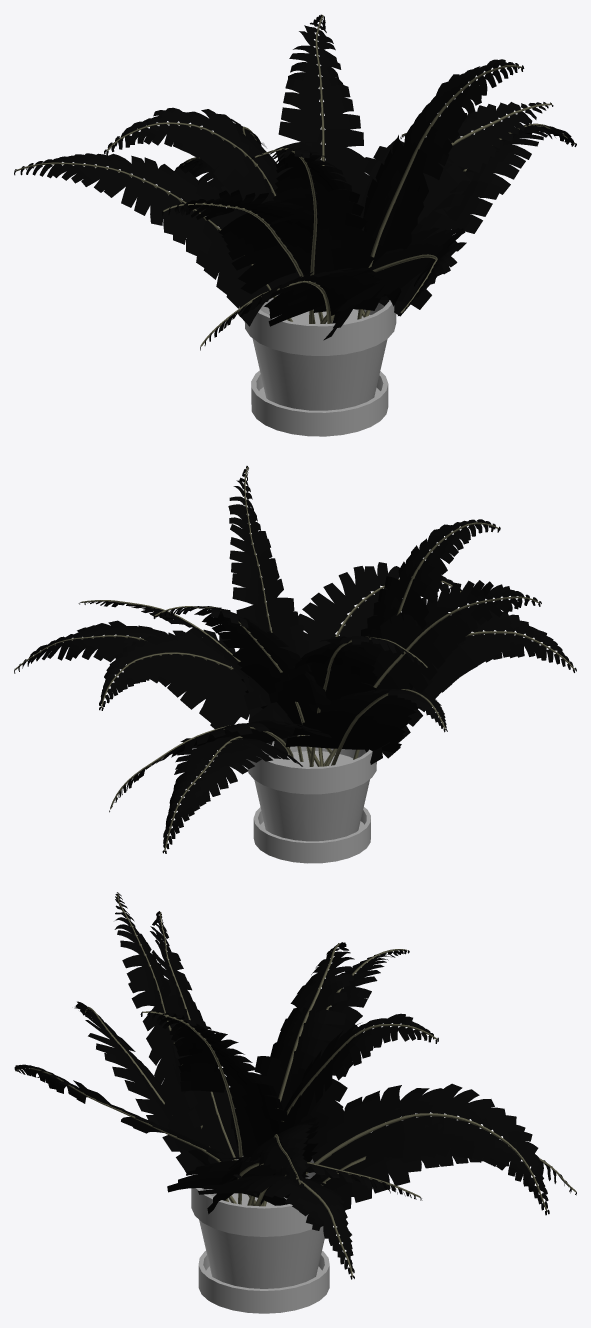
File: PLANT2.fbx
3 views of the same model, one above another, from view 1: azimuth 30°, elevation 25°; view 2: azimuth 150°, elevation 25°; view 3: azimuth 270°, elevation 25° (orthographic). The views are drawn at different scales.
Parts seen in each view (by area): view 1: pCylinder4, fernsTextured6Leaf, fernsTextured3Leaf, fernsTextured1Leaf, fernsTextured8Leaf, fernsTextured9Leaf, fernsTextured12Leaf, fernsTextured7Leaf, fernsTextured11Leaf, pCylinder3, fernsTextured5Leaf, fernsTextured4Leaf (+5 smaller); view 2: fernsTextured10Leaf, pCylinder4, fernsTextured9Leaf, fernsTextured3Leaf, fernsTextured6Leaf, fernsTextured8Leaf, fernsTextured1Leaf, fernsTextured12Leaf, fernsTextured5Leaf, fernsTextured11Leaf, fernsTextured4Leaf, pCylinder3 (+4 smaller); view 3: fernsTextured2Leaf, pCylinder4, fernsTextured3Leaf, fernsTextured12Leaf, fernsTextured8Leaf, fernsTextured10Leaf, fernsTextured1Leaf, fernsTextured9Leaf, fernsTextured4Leaf, pCylinder3, fernsTextured5Leaf, fernsTextured6Leaf (+7 smaller).
Part boxes in pixels (x1,y1,x2,y2): pCylinder4: (244,295,396,410); fernsTextured6Leaf: (14,153,269,326); fernsTextured3Leaf: (363,59,524,306); fernsTextured1Leaf: (268,14,370,294); fernsTextured8Leaf: (251,147,380,312); fernsTextured9Leaf: (162,189,318,294); fernsTextured12Leaf: (104,107,304,284); fernsTextured7Leaf: (357,102,553,316); fernsTextured11Leaf: (323,227,466,340); pCylinder3: (251,370,388,436); fernsTextured5Leaf: (200,268,394,350); fernsTextured4Leaf: (435,125,576,273); fernsTextured10Leaf: (99,629,302,853); pCylinder4: (247,735,376,841); fernsTextured9Leaf: (326,580,541,764); fernsTextured3Leaf: (228,466,308,722); fernsTextured6Leaf: (285,689,447,752); fernsTextured8Leaf: (358,519,500,742); fernsTextured1Leaf: (153,606,333,726); fernsTextured12Leaf: (269,636,429,704); fernsTextured5Leaf: (382,605,576,758); fernsTextured11Leaf: (298,562,461,690); fernsTextured4Leaf: (14,620,240,729); pCylinder3: (253,807,370,863); fernsTextured2Leaf: (307,1083,549,1215); pCylinder4: (191,1156,324,1288); fernsTextured3Leaf: (140,1011,293,1169); fernsTextured12Leaf: (231,942,354,1174); fernsTextured8Leaf: (114,892,212,1175); fernsTextured10Leaf: (167,1139,576,1226); fernsTextured1Leaf: (260,1013,438,1205); fernsTextured9Leaf: (150,911,243,1163); fernsTextured4Leaf: (198,1174,354,1279); pCylinder3: (198,1250,329,1313); fernsTextured5Leaf: (74,1001,204,1172); fernsTextured6Leaf: (282,949,409,1143).
Bounding box in the file's own units: 4.98 × 3.16 × 4.75.
